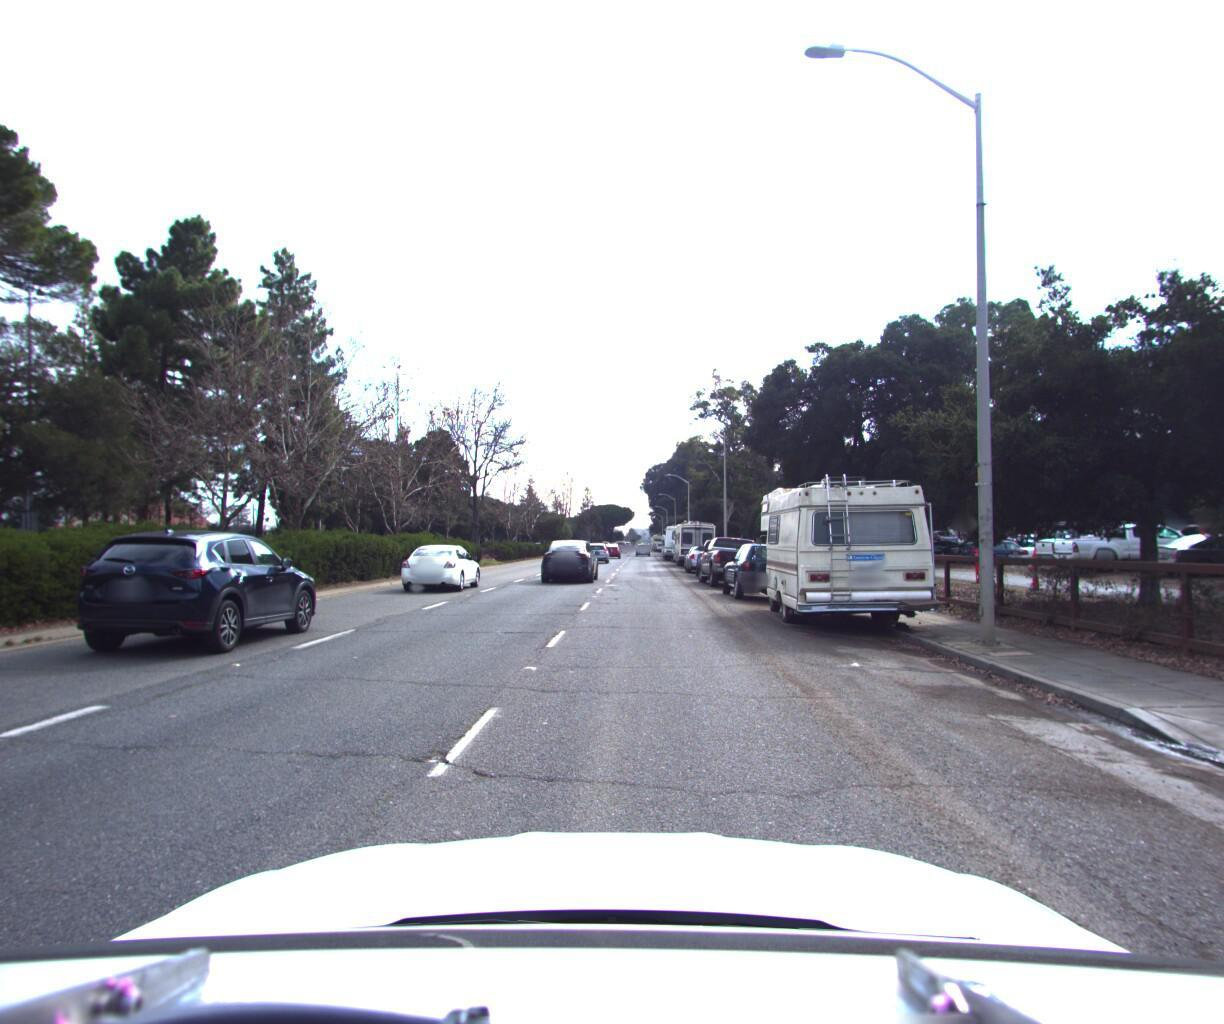car: (69, 520, 332, 661), (716, 535, 801, 598), (693, 526, 774, 587), (397, 535, 484, 591), (536, 534, 599, 582), (691, 531, 743, 574), (681, 538, 723, 569), (582, 534, 614, 558)
other_vehicle: (747, 461, 948, 636), (669, 511, 717, 558), (659, 516, 698, 555)
